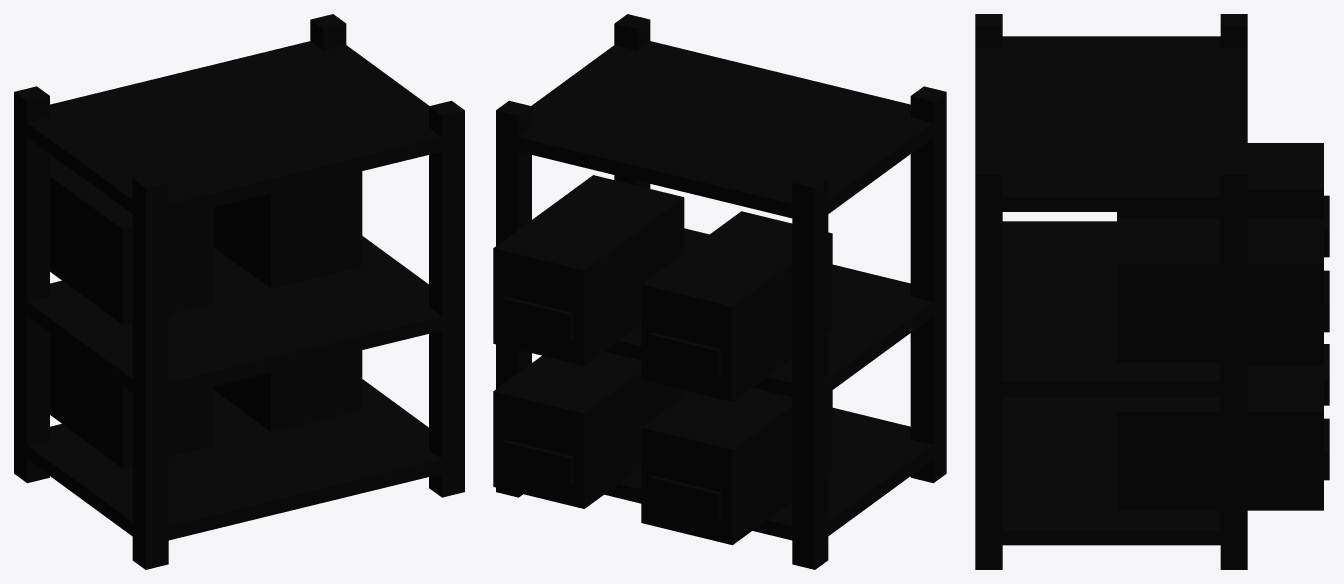
Rendered from lab_shelf_open.obj.
3 views of the same model, side by side, from view 1: azimuth 30°, elevation 25°; view 2: azimuth 150°, elevation 25°; view 3: azimuth 270°, elevation 25° (orthographic). The views are drawn at different scales.
Size of the model in its own units: 0.875 by 1 by 0.8125.
